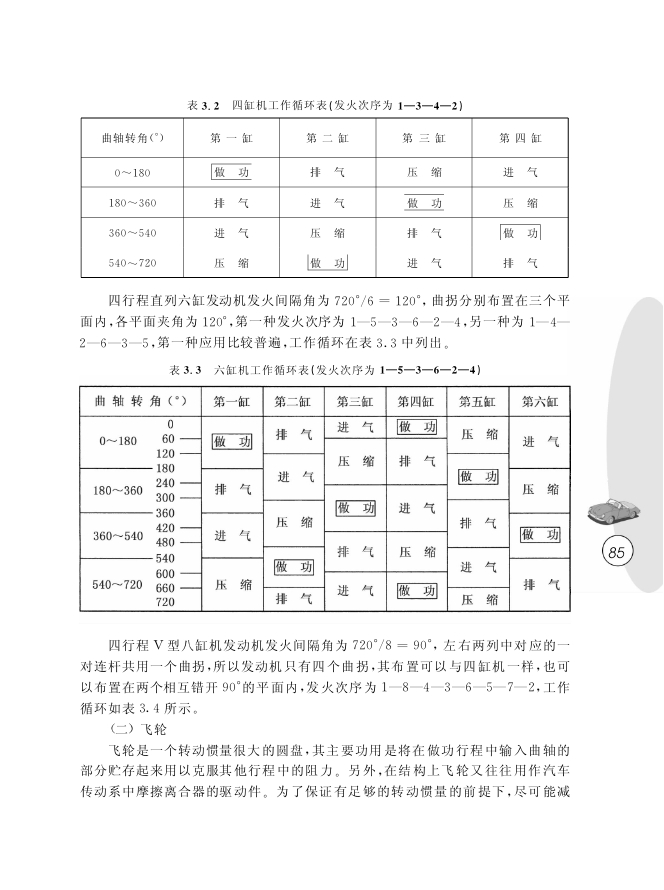table: (80, 117, 568, 277)
